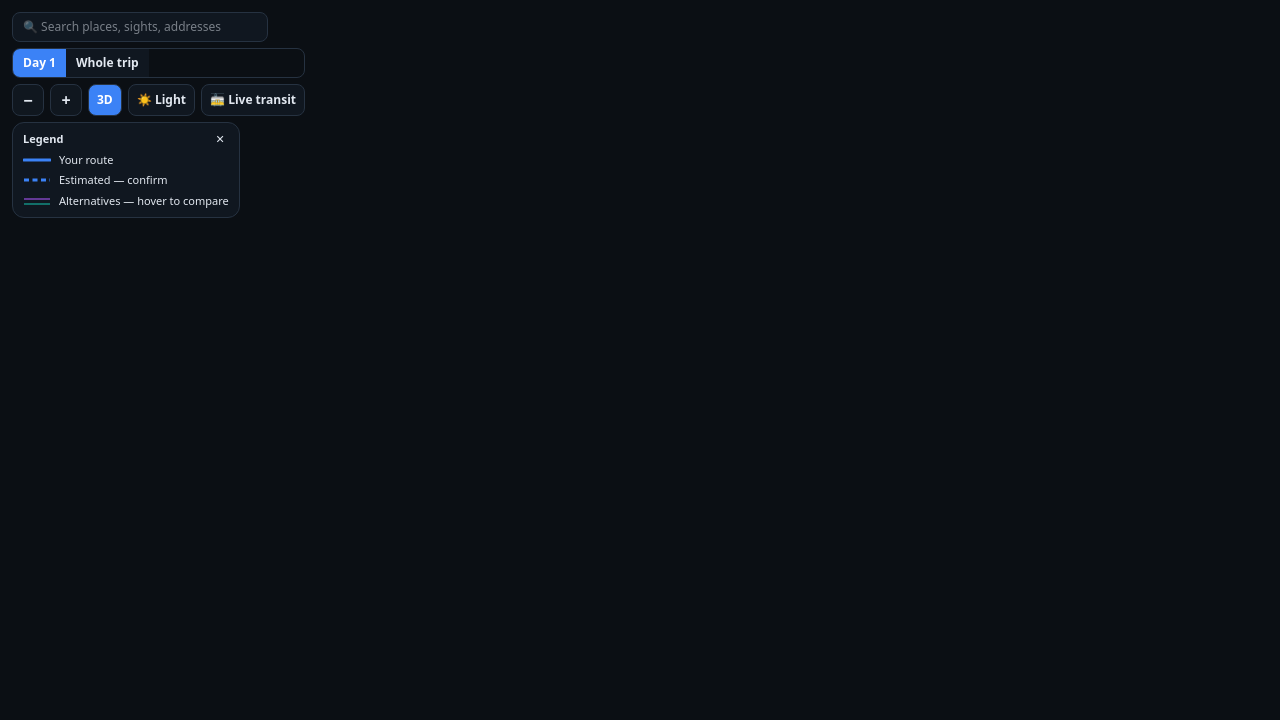
Scenario: TripMap › map search for viewers: no add button
Later steps or results of the test are not shown.
Step 1. Type "xxx" into the dropdown named "Search the map" → [140, 27], box [12,12,268,42]
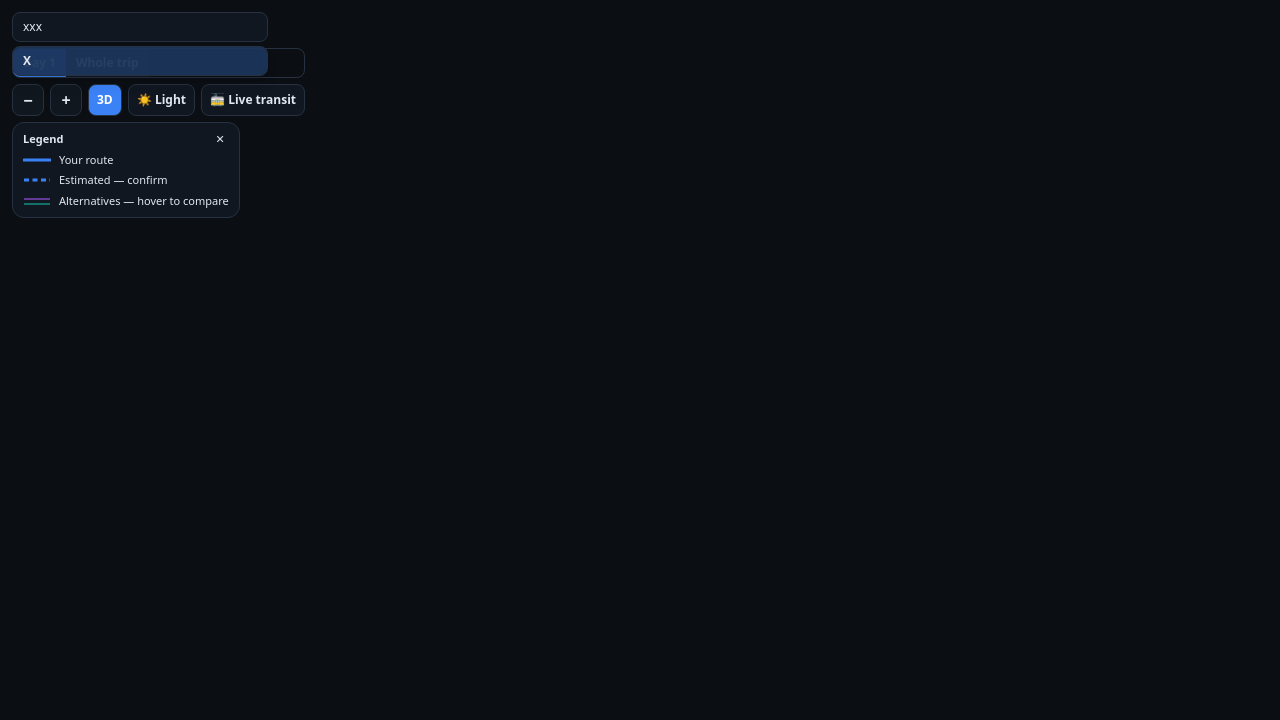
Step 2. Press the mouse on the button "X" → [140, 61], box [13,47,267,75]
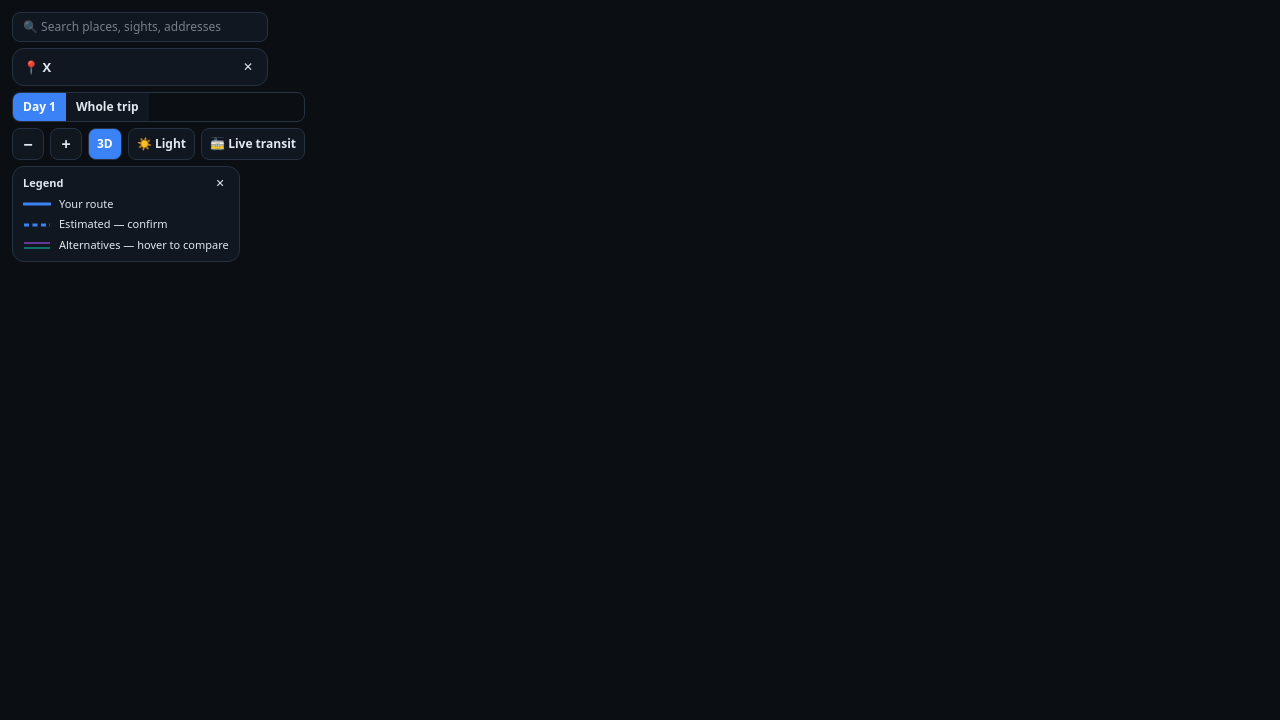
Check: the dialog named "Place: X" is shown, box [12,48,268,86]
